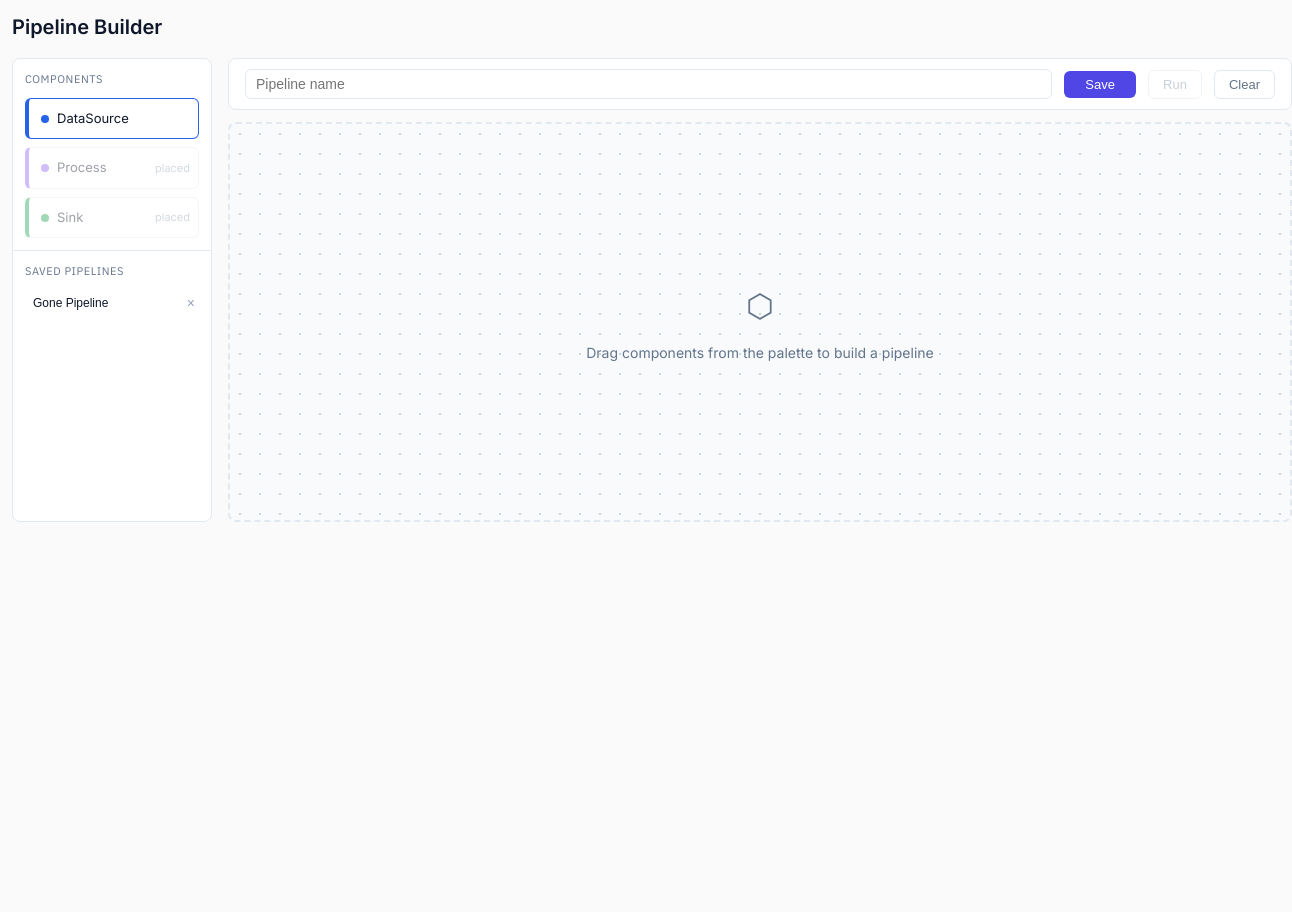
Test: AC3 — delete action shows confirmation and calls API on confirm › shows a success toast after deletion
The width and height of the screenshot is (1292, 912).
Click the button named "delete pipeline Gone Pipeline" at [191, 302], box [183,290,199,314]
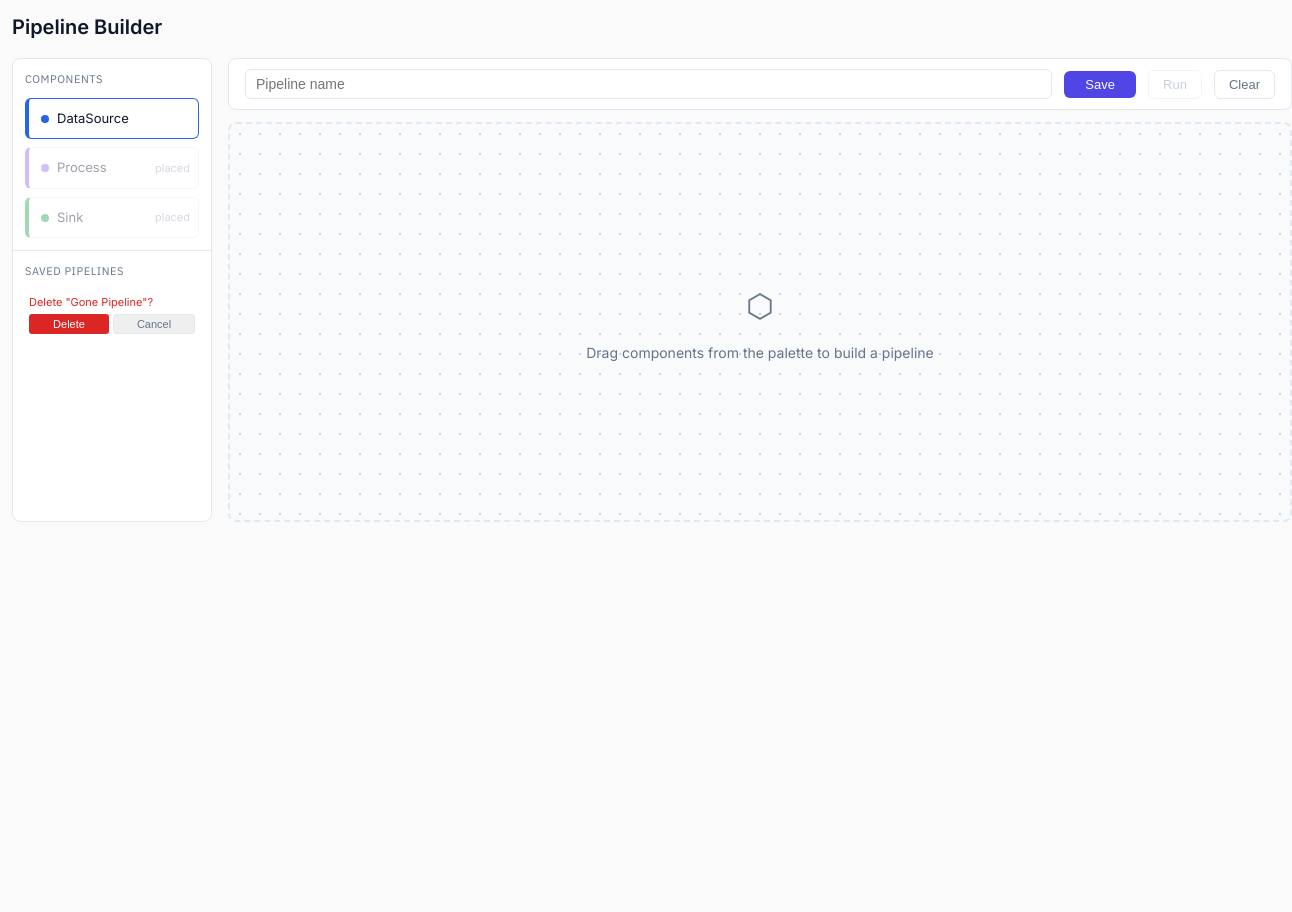
Click the button "Delete" at [69, 324], box [29,314,109,334]
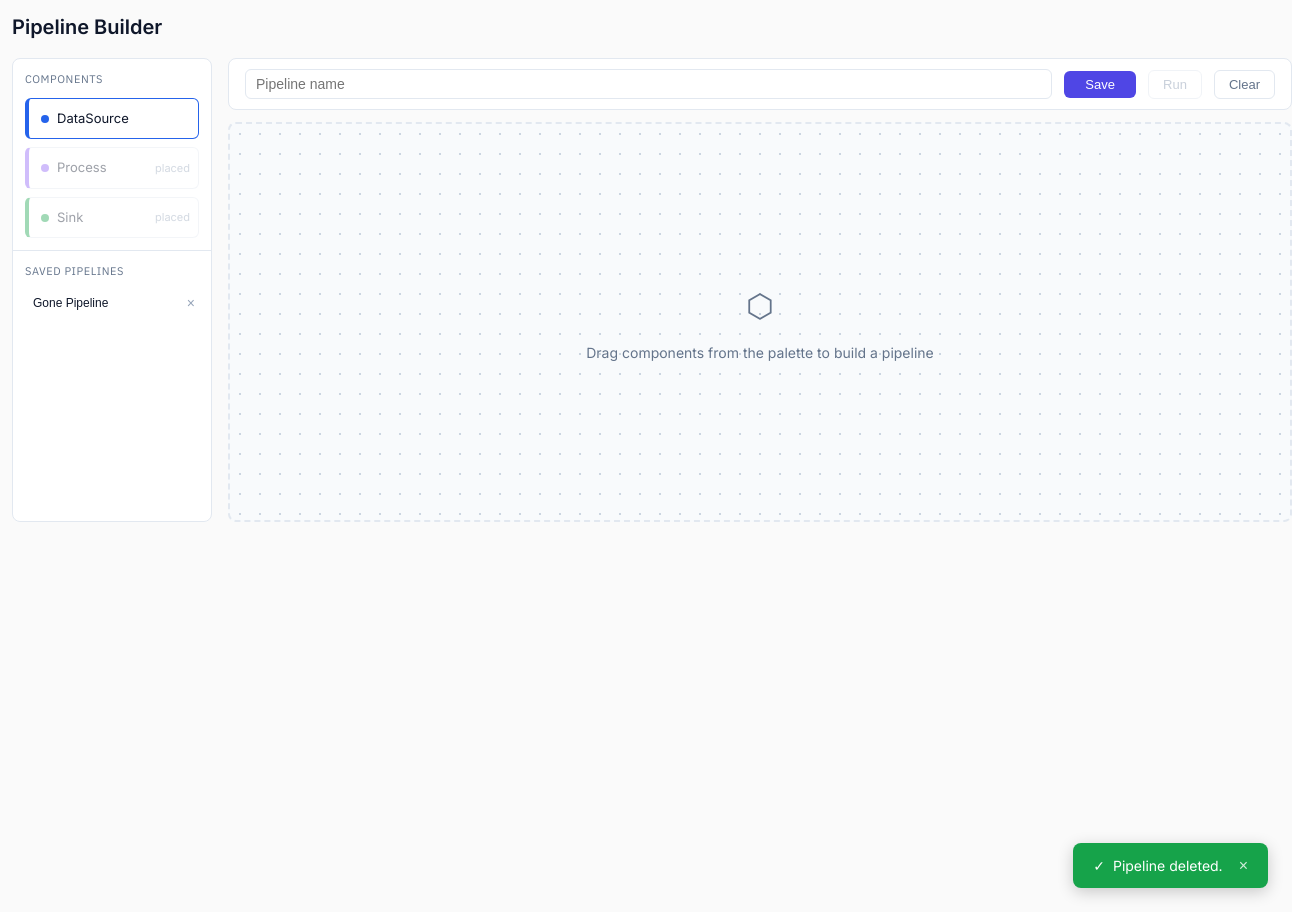
Now the text "Pipeline deleted." is shown, box [1113,855,1223,876]
